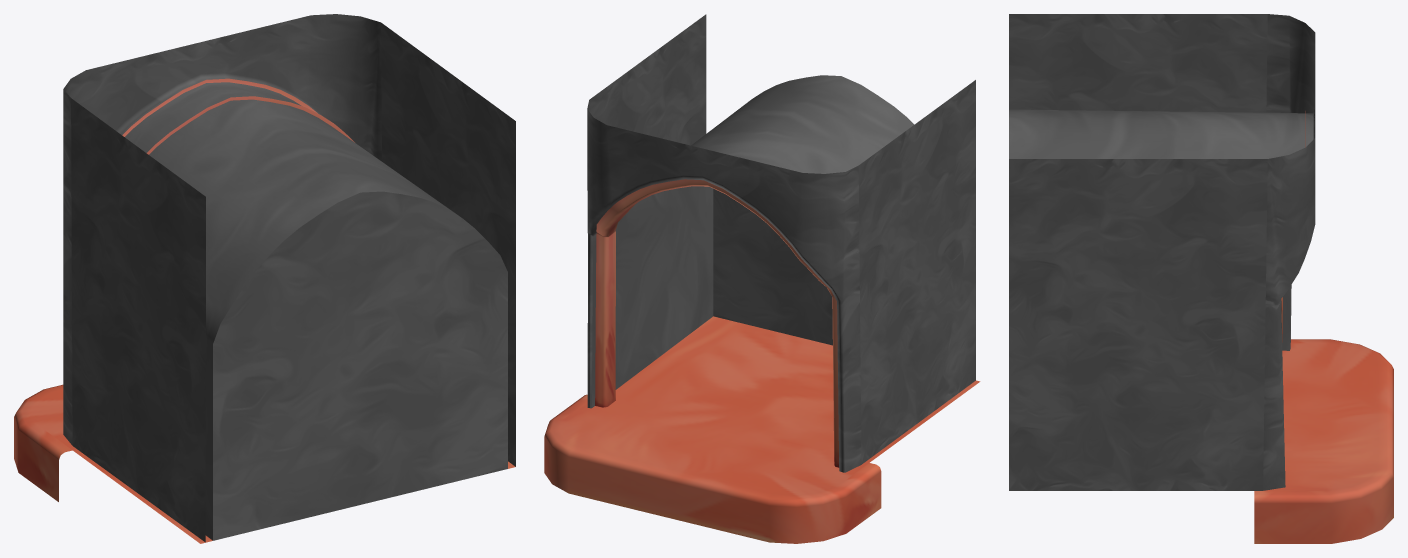
Rendered from GrassWallDoorExit.fbx.
3 views of the same model, side by side, from view 1: azimuth 30°, elevation 25°; view 2: azimuth 150°, elevation 25°; view 3: azimuth 270°, elevation 25° (orthographic). The views are drawn at different scales.
Parts seen in each view (by area): view 1: GrassWallDoorExit; view 2: GrassWallDoorExit; view 3: GrassWallDoorExit.
Boxes of the visible parts, x1,y1,x2,y2 form: GrassWallDoorExit: (14, 14, 515, 543); GrassWallDoorExit: (544, 14, 980, 543); GrassWallDoorExit: (1009, 14, 1393, 543).
Bounding box in the file's own units: 104 × 114 × 105.
